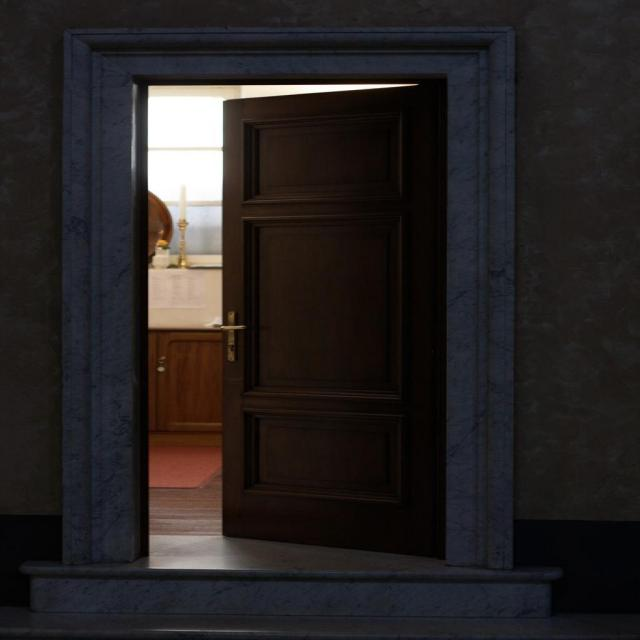open: (141, 84, 444, 562)
